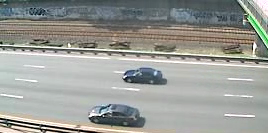car: (86, 101, 144, 128), (120, 64, 165, 86)
